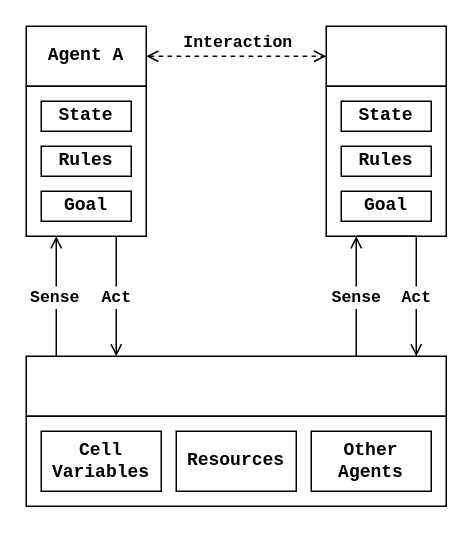
This 473x533 diagram has some shape labels left out. The centre of each missing label's shape, as x and y in pixels:
"Agent B" goes at [385,55].
"Environment" goes at [235,385].
